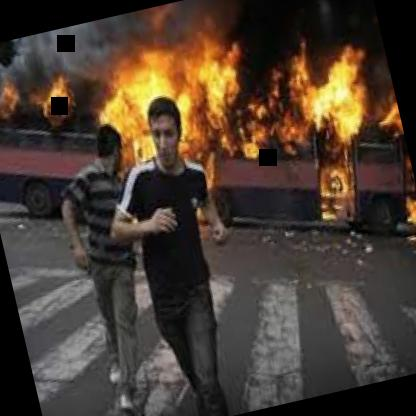fire: (163, 0, 416, 279), (0, 0, 227, 204)
